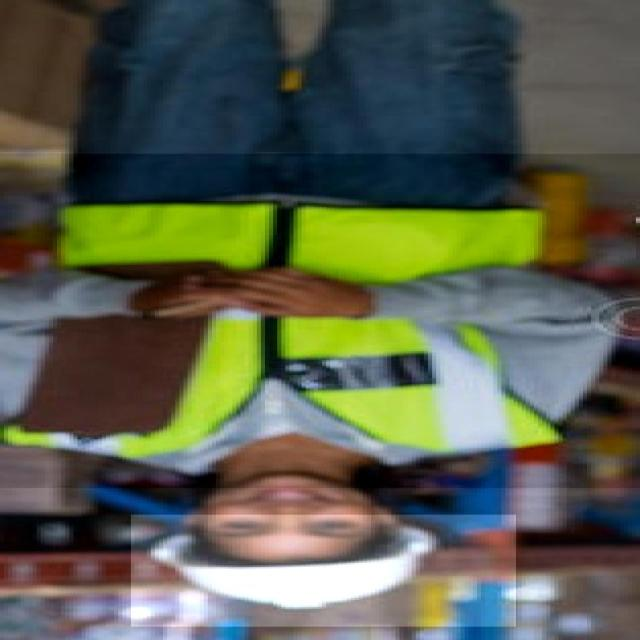Helmet: (132, 514, 516, 626)
Safety Vest: (0, 154, 640, 488)
